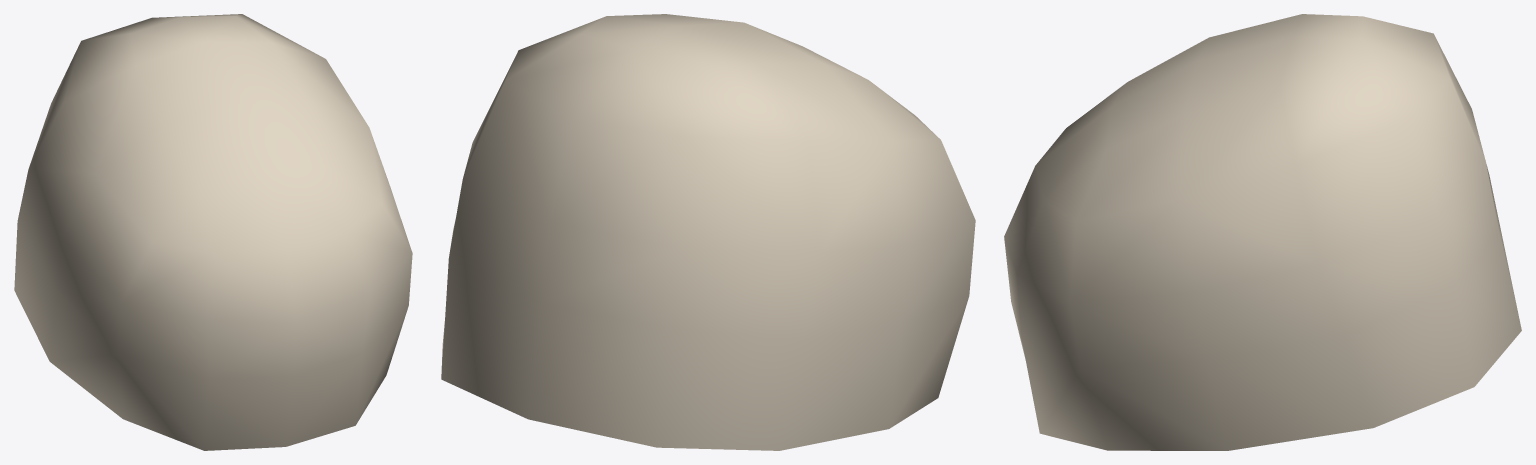
File: rider-helmet-slice-base.glb
The picture shows the model from 3 angles, left to right: view 1: azimuth 30°, elevation 25°; view 2: azimuth 150°, elevation 25°; view 3: azimuth 270°, elevation 25°; orthographic projection. The views are drawn at different scales.
Size of the model in its own units: 0.2129 by 0.2065 by 0.2586.
